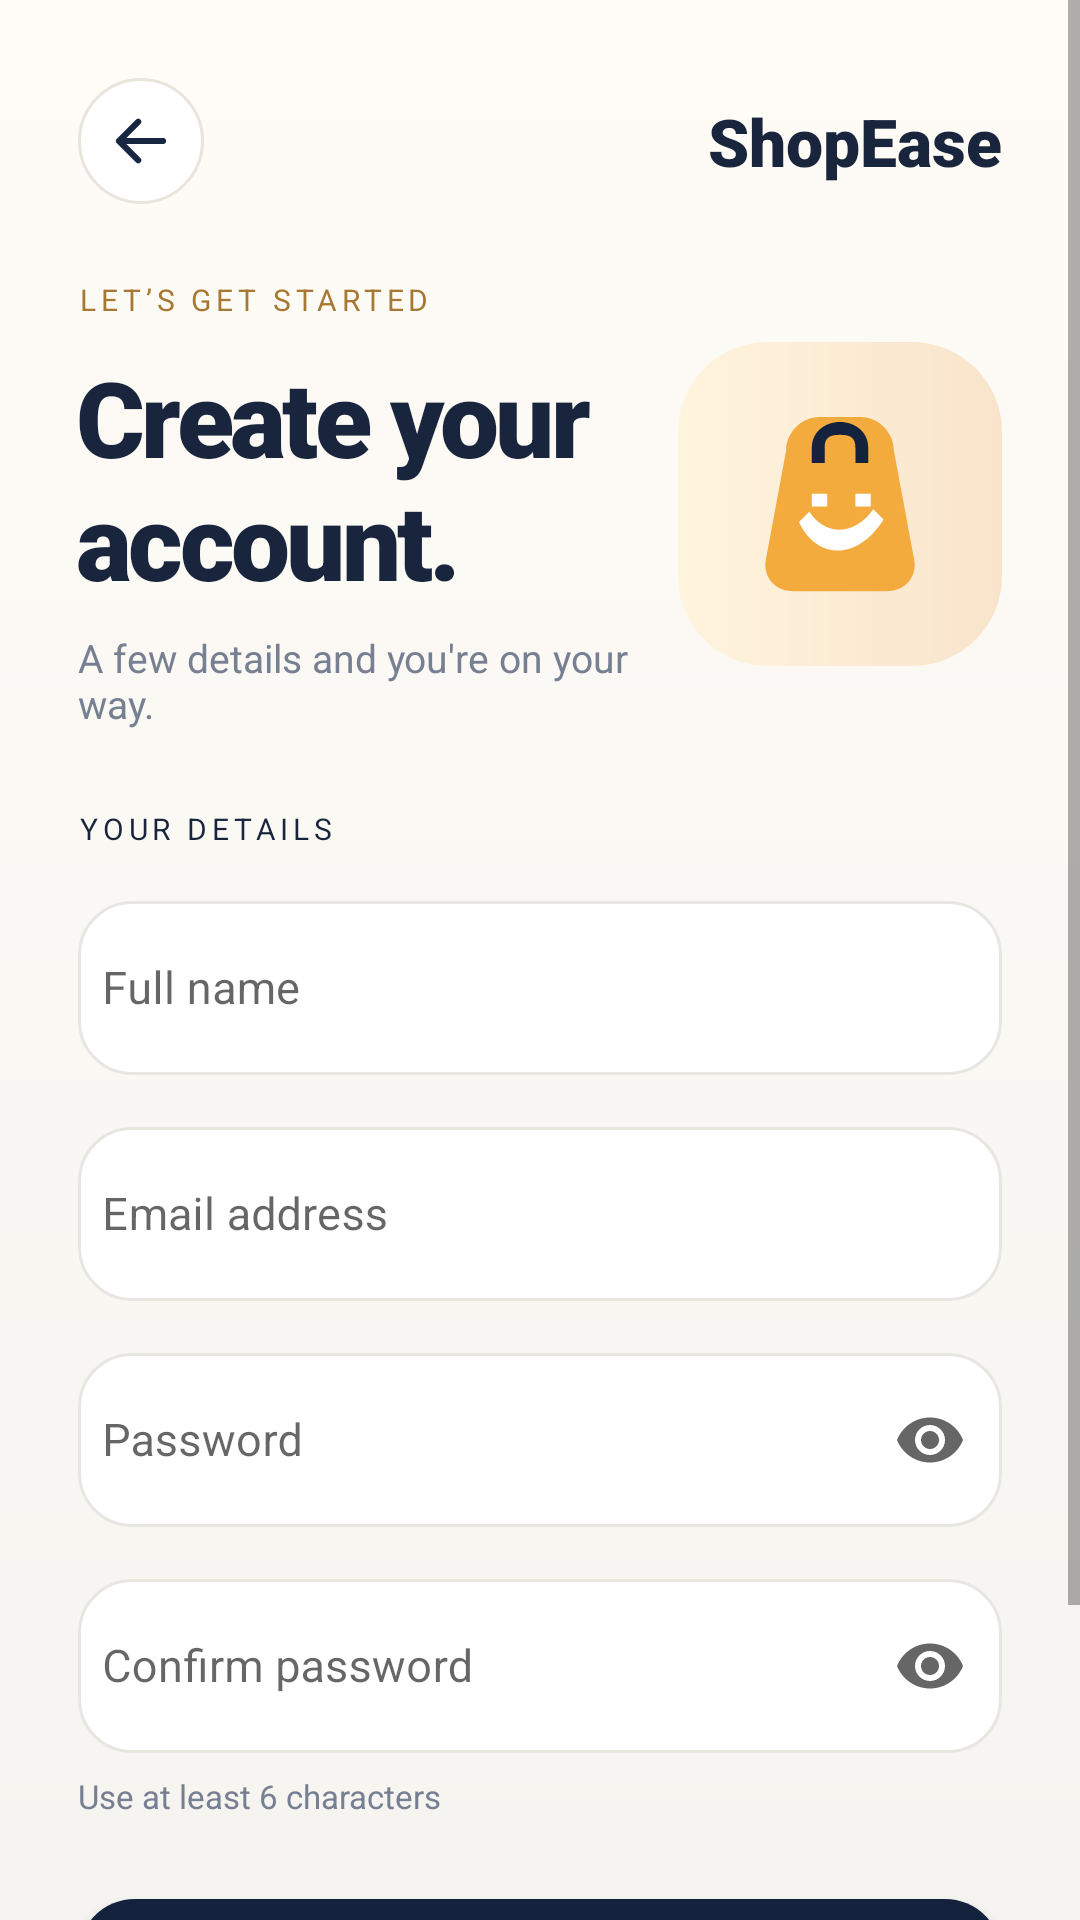

Icons on this 1080px×1920px Android screen, each with the point to tap as [x,y]:
Back to log in: [141,141]
